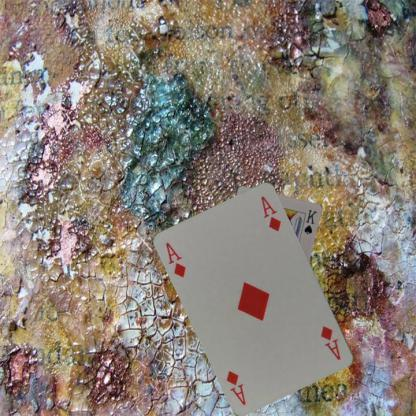Ad: (163, 239, 188, 279), (318, 323, 343, 362)
